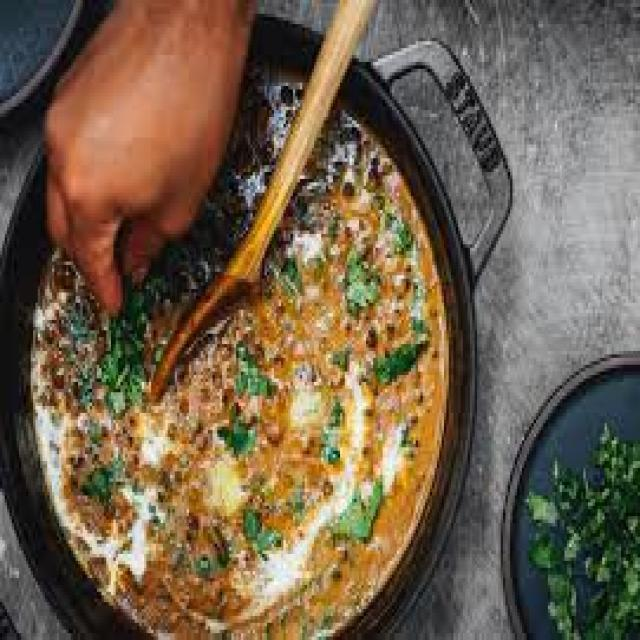dal_makhani: (25, 338, 475, 640)
